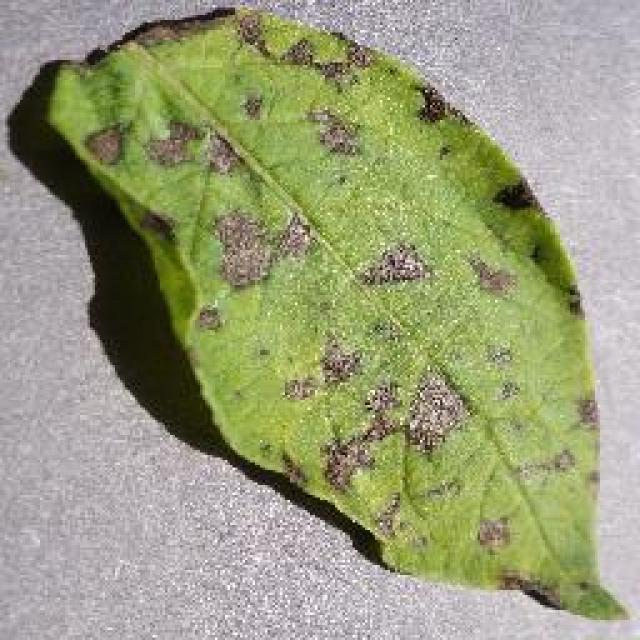Potato___Early_blight: (40, 5, 636, 622)
